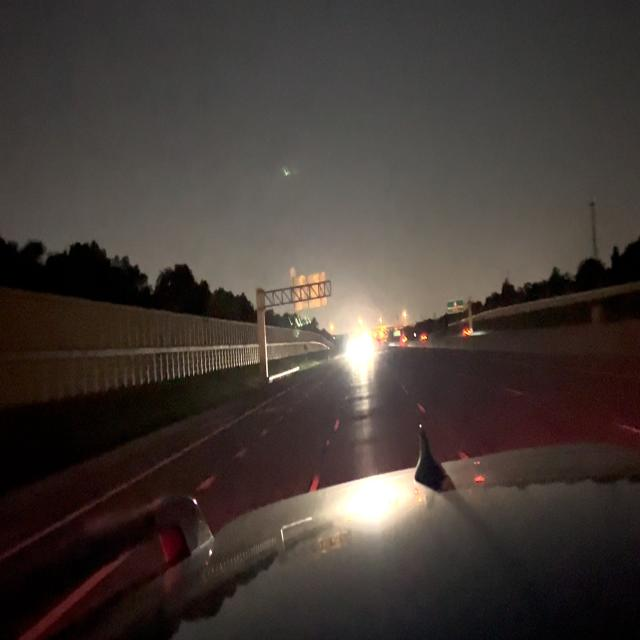back-of-sign: (292, 272, 327, 312)
